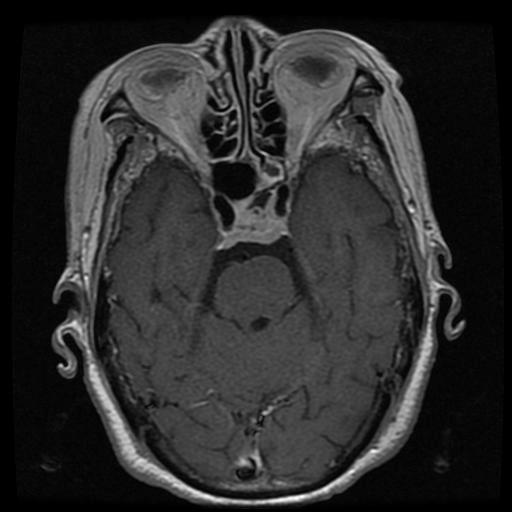Tumour-Pituitary: (210, 188, 301, 253)
